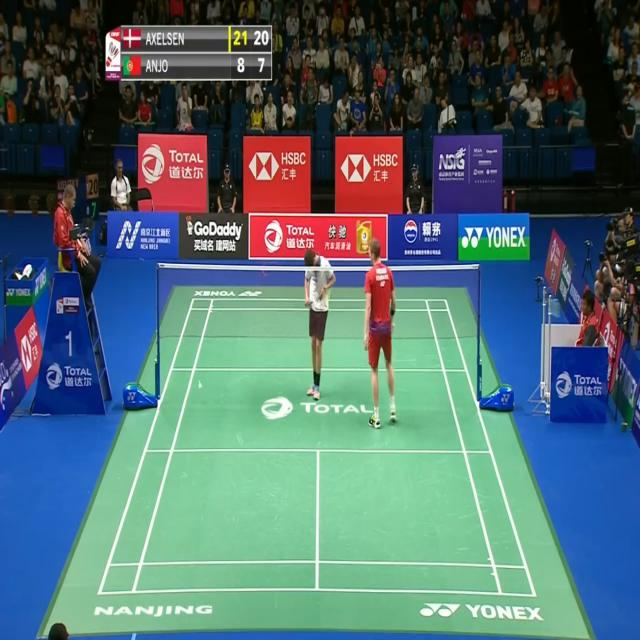Player1: (358, 231, 404, 442)
Player2: (297, 237, 339, 407)
